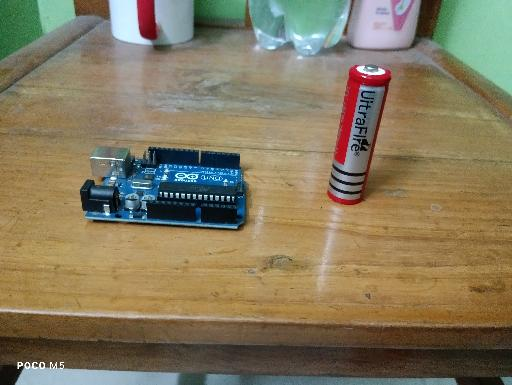Arduino: (81, 145, 248, 229)
Battery: (327, 64, 392, 205)
